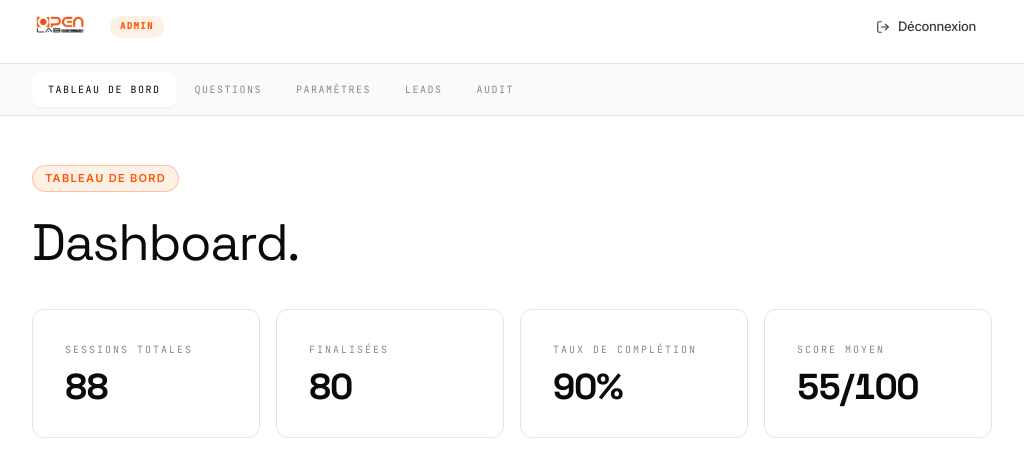
Test: AdminDashboard — Leads tab › affiche les leads dans le tableau
Expected: the text "88" is shown, [65,364,108,410]
Click the button "Leads".
click(424, 90)  # box [389,72,458,107]
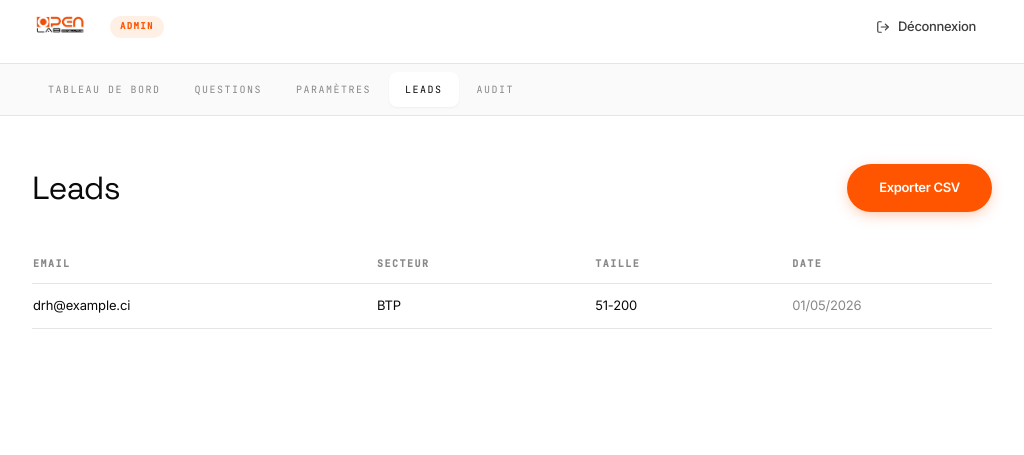
Expected: the text "drh@example.ci" is shown, [32,284,376,328]
